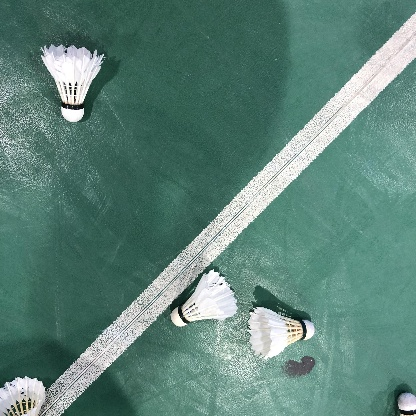ball_single: (41, 44, 104, 122), (171, 269, 238, 327), (247, 307, 314, 360), (0, 376, 46, 416), (398, 392, 416, 416)
